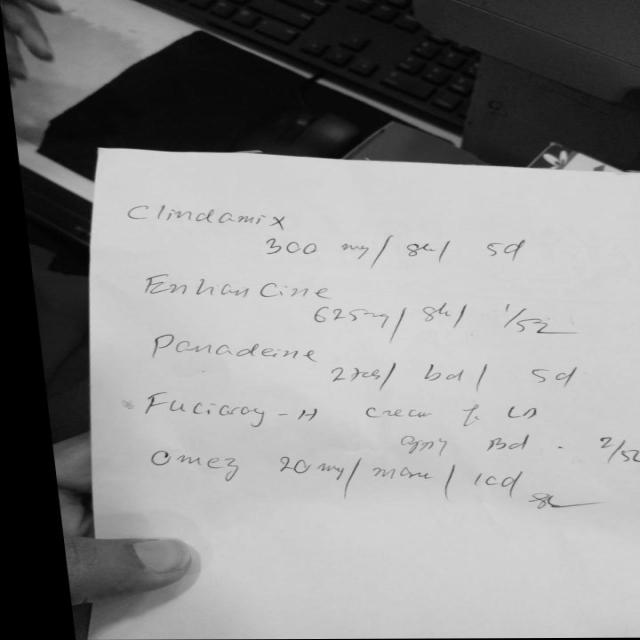Prescription: (131, 388, 640, 469), (132, 270, 568, 346), (108, 200, 528, 273), (137, 329, 579, 391), (135, 449, 427, 496)
